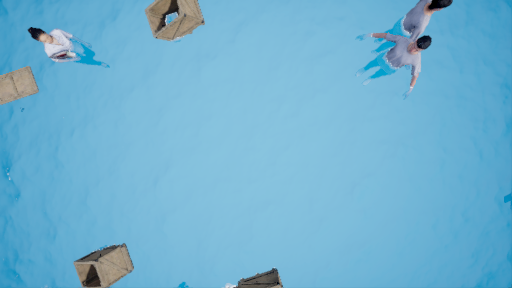person: (350, 29, 435, 102), (25, 27, 123, 72), (379, 1, 456, 42)
